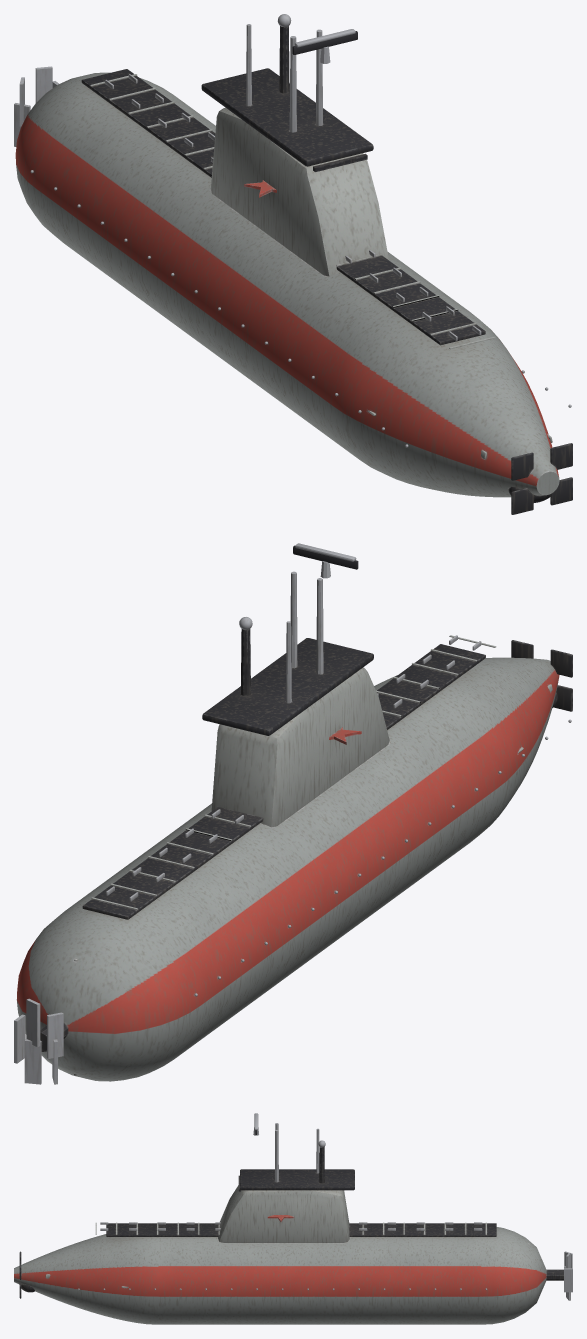
The model's file is submarine.glb.
The picture shows the model from 3 angles, top to bottom: view 1: azimuth 30°, elevation 25°; view 2: azimuth 150°, elevation 25°; view 3: azimuth 270°, elevation 25°; orthographic projection. The views are drawn at different scales.
Parts seen in each view (by area): view 1: Hull, Spin; view 2: Hull, Spin; view 3: Hull.
Part boxes in pixels (box(x1,y1,x2,y2)): Hull: box(14, 14, 572, 514); Spin: box(292, 29, 357, 63); Hull: box(14, 571, 572, 1084); Spin: box(293, 543, 358, 578); Hull: box(14, 1123, 572, 1324).
Bounding box in the file's own units: 2.54 × 5.34 × 13.61.
7 materials, 5 textured.
